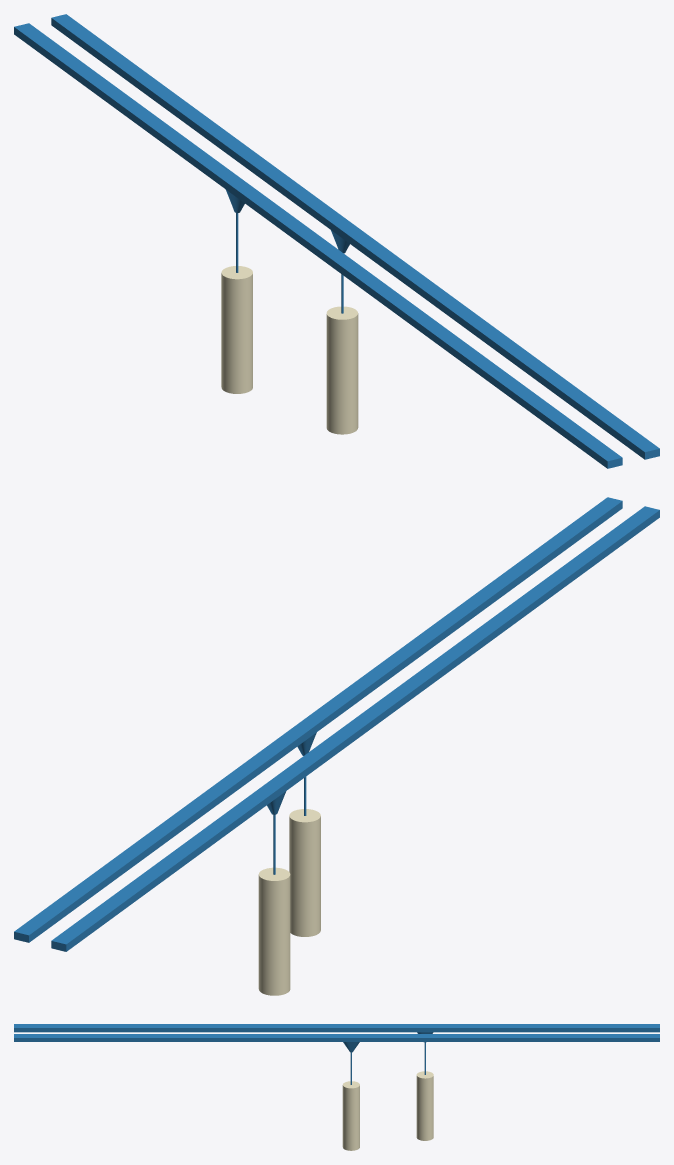
3 renders of one model, top to bottom at view 1: azimuth 30°, elevation 25°; view 2: azimuth 150°, elevation 25°; view 3: azimuth 270°, elevation 25°, orthographic. The views are drawn at different scales.
Visible parts, largest first — view 1: rail, rail.001, weight.001, weight; view 2: rail, rail.001, weight, weight.001; view 3: rail, rail.001, weight, weight.001.
Boxes of the visible parts, bbox=[...] form: rail: bbox=[14, 23, 622, 468]; rail.001: bbox=[51, 14, 659, 459]; weight.001: bbox=[326, 306, 358, 434]; weight: bbox=[221, 266, 252, 393]; rail: bbox=[51, 506, 659, 951]; rail.001: bbox=[14, 497, 622, 942]; weight: bbox=[258, 867, 290, 995]; weight.001: bbox=[289, 809, 320, 936]; rail: bbox=[14, 1024, 659, 1042]; rail.001: bbox=[14, 1034, 659, 1052]; weight: bbox=[416, 1071, 433, 1140]; weight.001: bbox=[342, 1081, 359, 1150].
Bounding box in the file's own units: 0.00944 × 0.0285 × 0.15.
